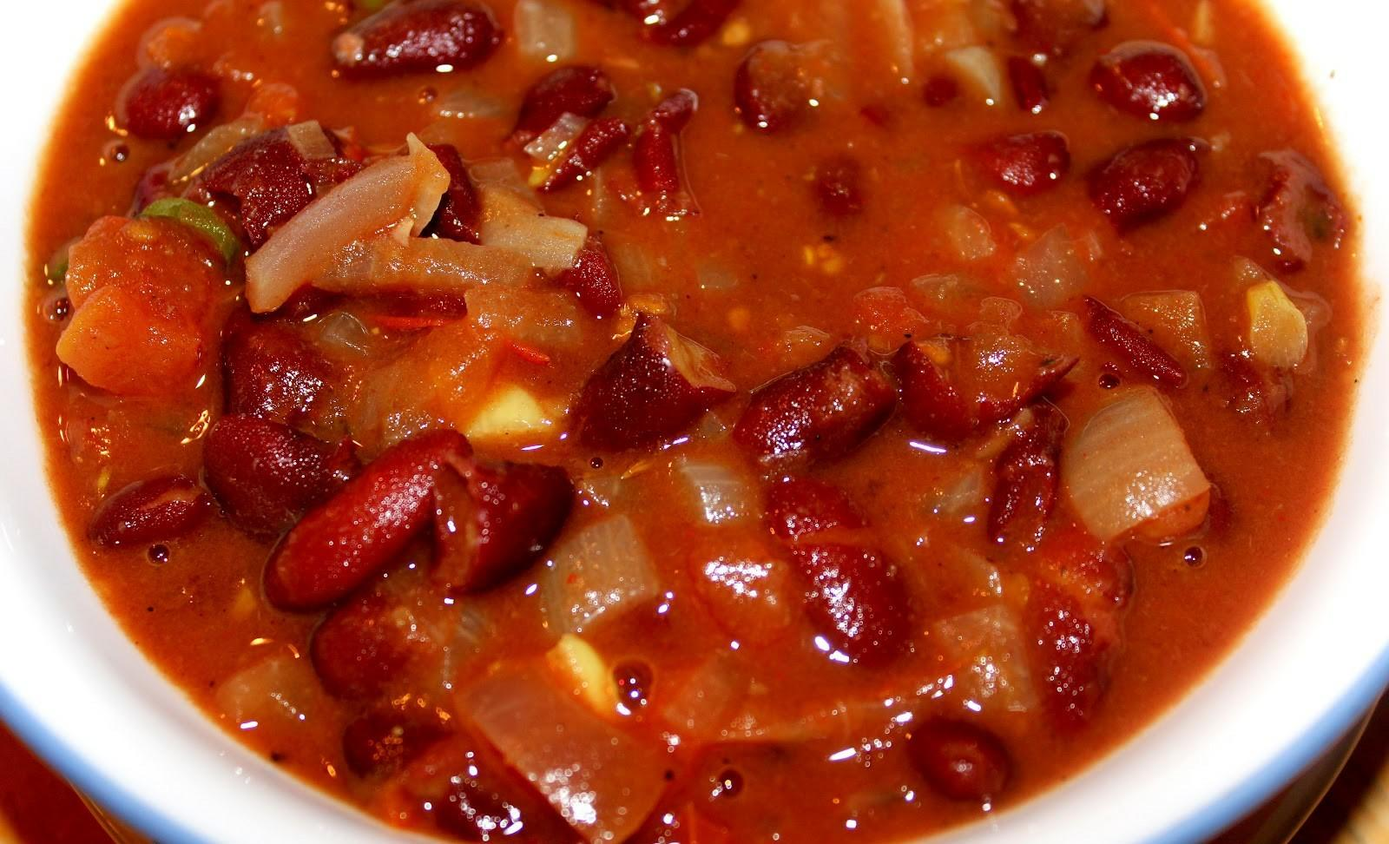RajmaCurry: (16, 0, 1370, 844)
